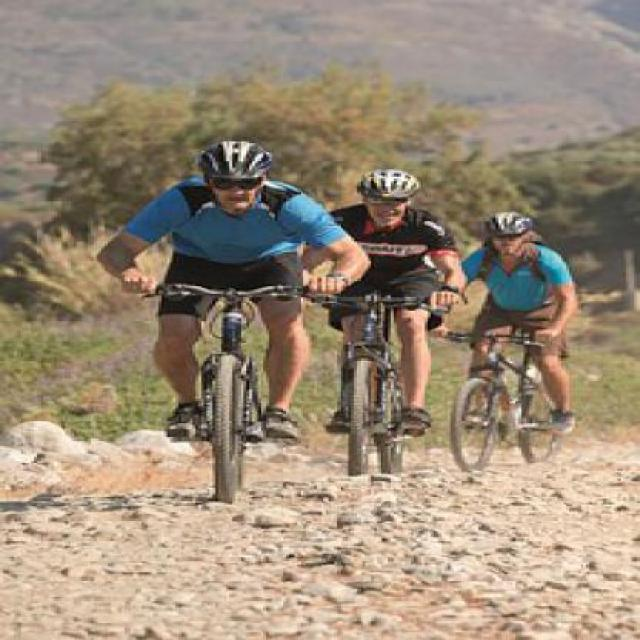car: (102, 128, 306, 506), (280, 159, 458, 475), (425, 195, 583, 477)
